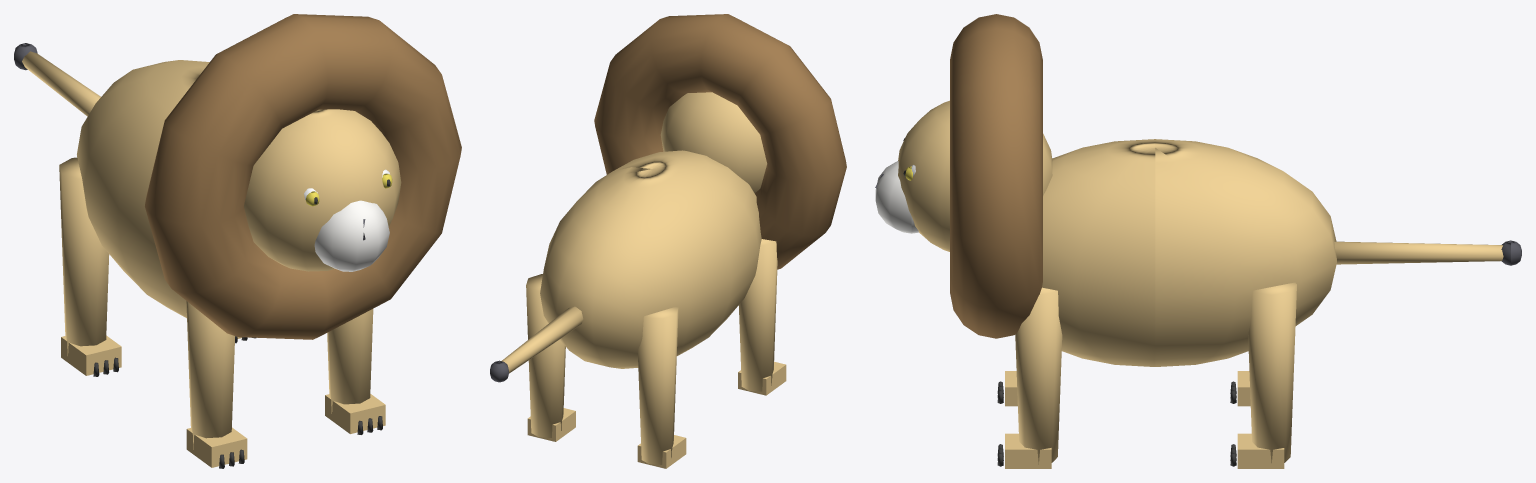
3 views of the same model, side by side, from view 1: azimuth 30°, elevation 25°; view 2: azimuth 150°, elevation 25°; view 3: azimuth 270°, elevation 25° (orthographic). The views are drawn at different scales.
Parts seen in each view (by area): view 1: Generated3DMesh; view 2: Generated3DMesh; view 3: Generated3DMesh.
Part boxes in pixels (x1,y1,x2,y2): Generated3DMesh: (14, 14, 461, 468); Generated3DMesh: (490, 14, 846, 468); Generated3DMesh: (875, 14, 1521, 468).
Size of the model in its own units: 1.54 by 2.09 by 3.06.
